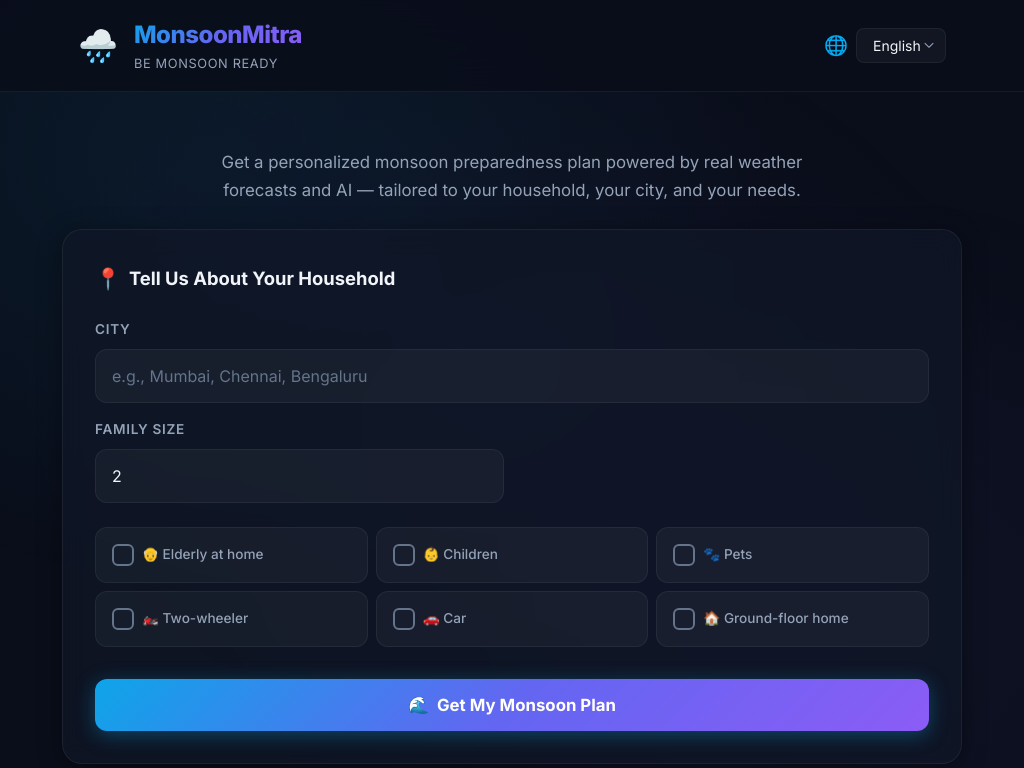
Scenario: App — API failure handling › renders friendly error when weather API fails
The image size is (1024, 768).
Type "XYZ" into the field named "enter your city name" at (512, 376), box top-left (95, 349), bottom-right (929, 403)
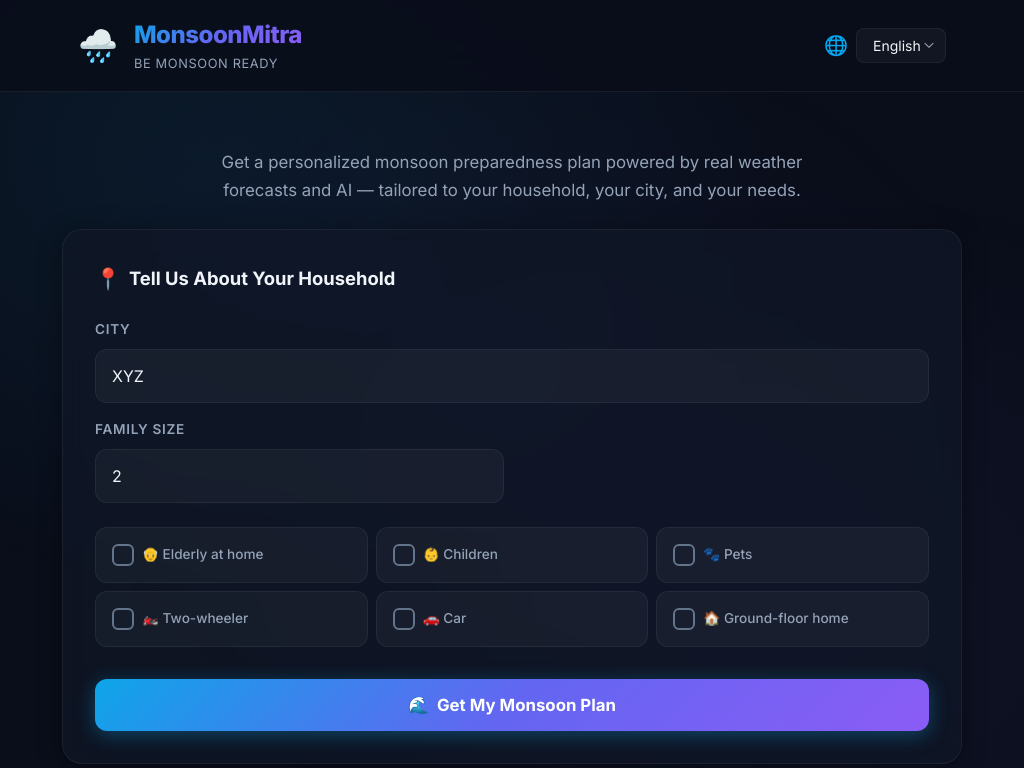
Click the button "🌊 Get My Monsoon Plan" at (512, 705), box top-left (95, 679), bottom-right (929, 731)
(page scrolled)
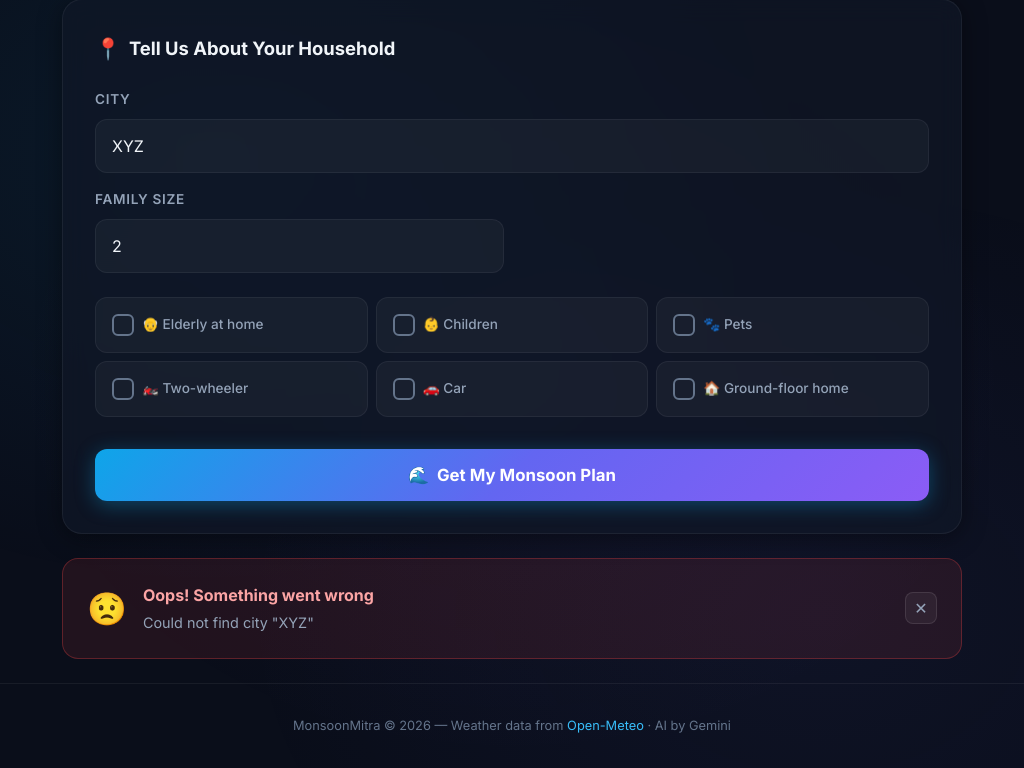
Now the text "Could not find city \"XYZ\"" is shown, box top-left (143, 614), bottom-right (314, 631)
